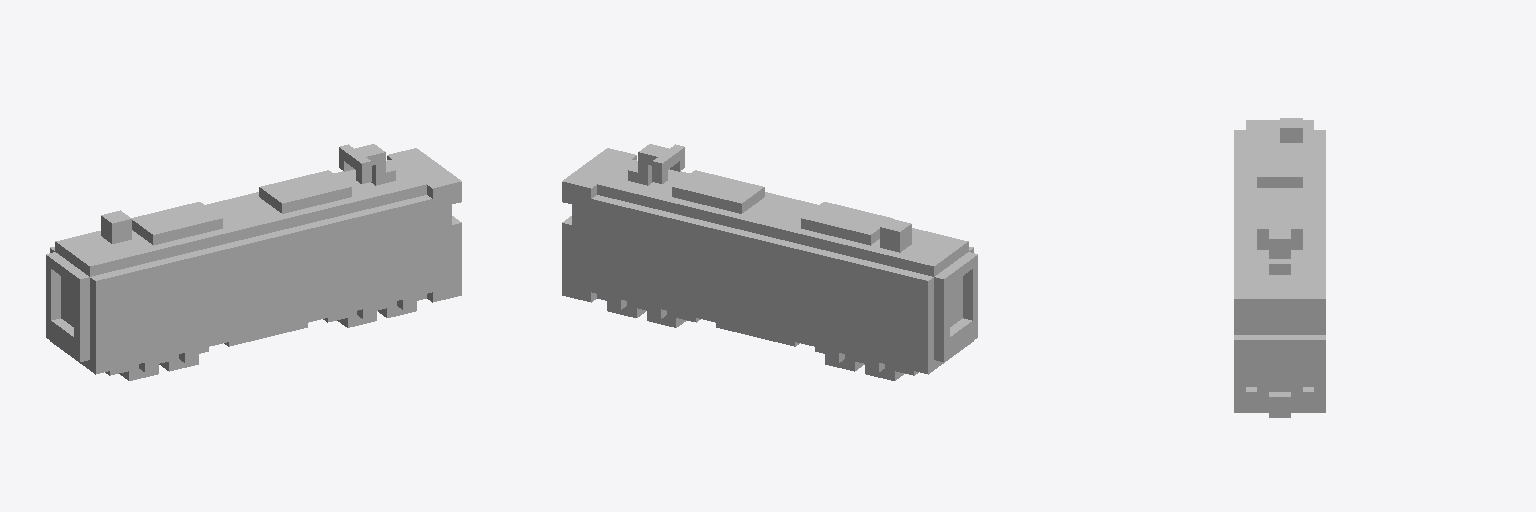
3 renders of one model, left to right at view 1: azimuth 30°, elevation 25°; view 2: azimuth 150°, elevation 25°; view 3: azimuth 270°, elevation 25°, orthographic.
Visible parts, largest first — view 1: train_front; view 2: train_front; view 3: train_front.
Boxes of the visible parts, box(x1,y1,x2,y2) form: train_front: box(46, 144, 461, 380); train_front: box(562, 144, 977, 380); train_front: box(1234, 118, 1325, 417).
Bounding box in the file's own units: 4.88 × 1.88 × 1.